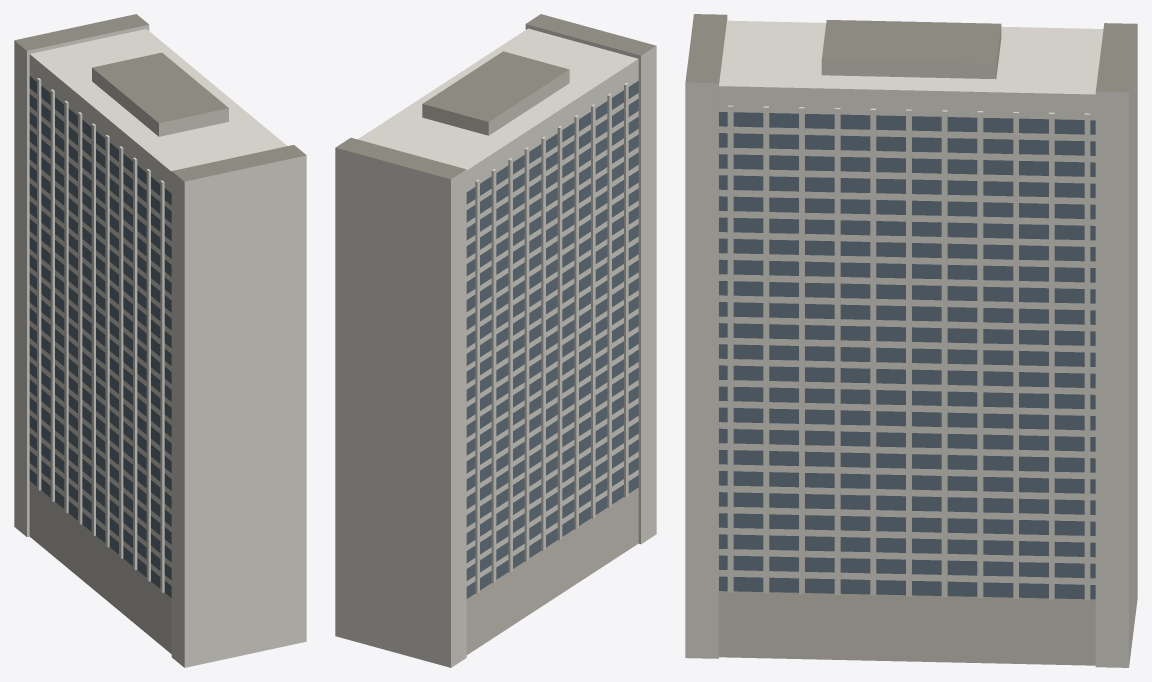
Rendered from sahara_hotel_alexandri_w276426484.glb.
The picture shows the model from 3 angles, left to right: view 1: azimuth 30°, elevation 25°; view 2: azimuth 150°, elevation 25°; view 3: azimuth 270°, elevation 25°; orthographic projection. The views are drawn at different scales.
Visible parts, largest first — view 1: Tower; view 2: Tower; view 3: Tower.
Part boxes in pixels (<box>): Tower: <box>14,14,306,667</box>; Tower: <box>335,14,656,667</box>; Tower: <box>685,14,1137,667</box>.
Bounding box in the file's own units: 22.85 × 79.8 × 55.67.
